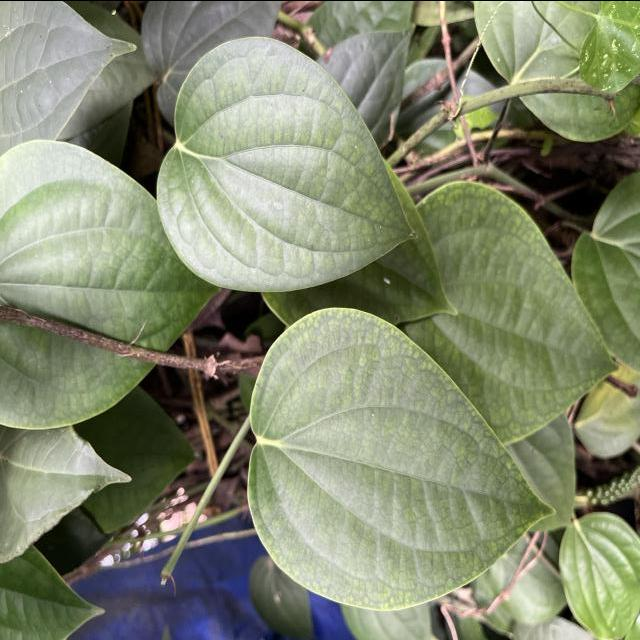Piper nigrum: (244, 304, 558, 613), (154, 33, 419, 295)
